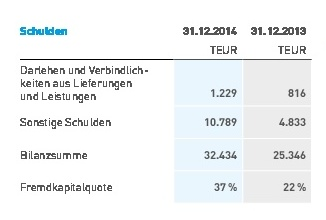table: (0, 0, 326, 220)
